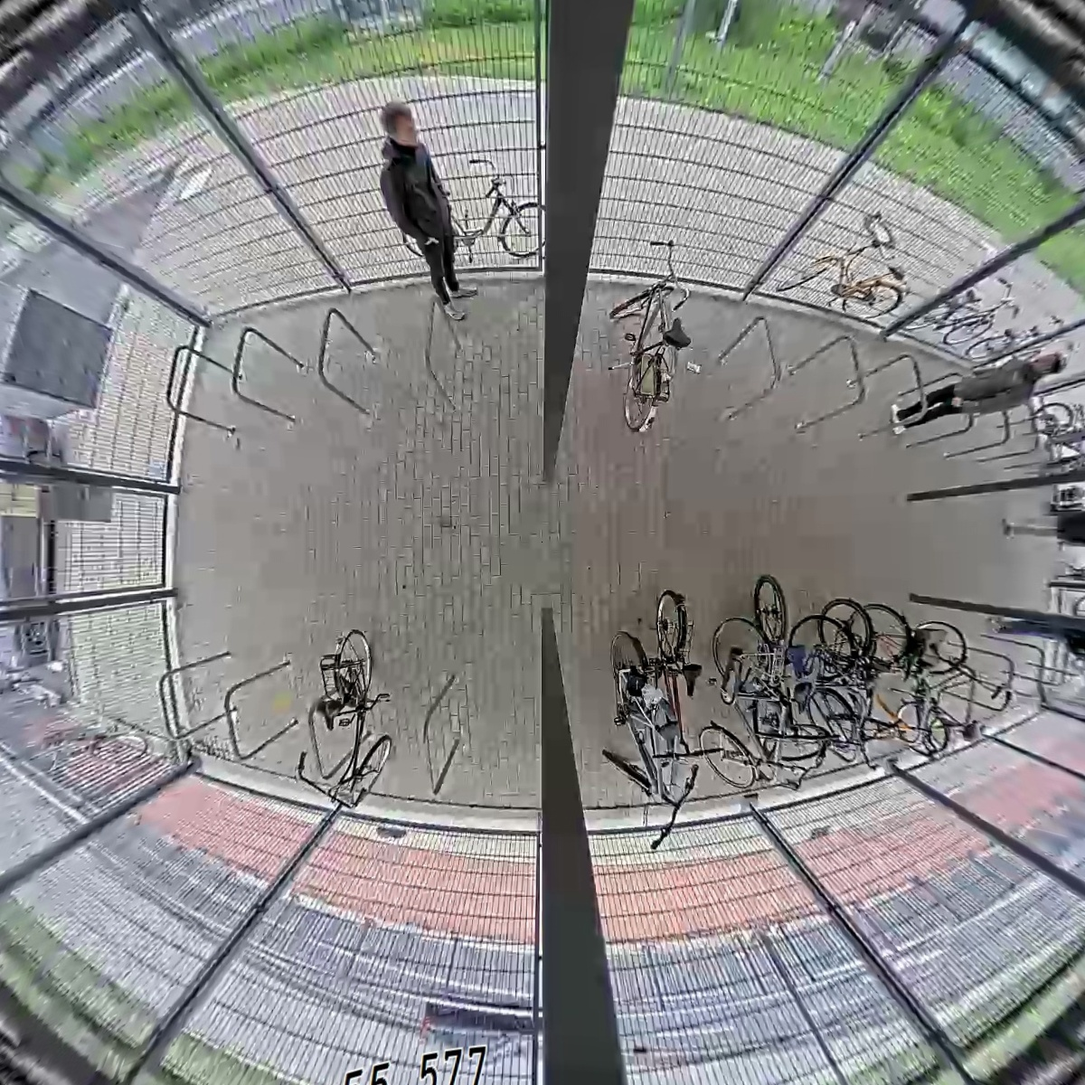bicylce: (284, 622, 398, 819), (602, 624, 686, 855), (708, 599, 796, 812), (611, 239, 704, 438), (814, 597, 913, 776), (788, 619, 896, 776), (747, 574, 828, 766), (894, 619, 983, 765), (649, 591, 708, 794), (936, 712, 937, 713)
saddle: (306, 691, 348, 735), (653, 311, 695, 354), (648, 712, 684, 753), (781, 641, 815, 681), (784, 680, 819, 716), (680, 656, 705, 696), (957, 715, 983, 745), (854, 679, 883, 703), (895, 658, 917, 685)
